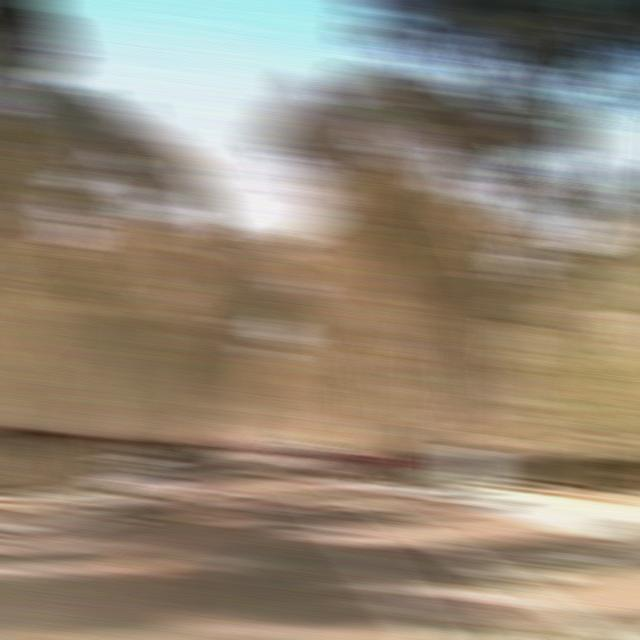stop_sign: (437, 402, 477, 429)
